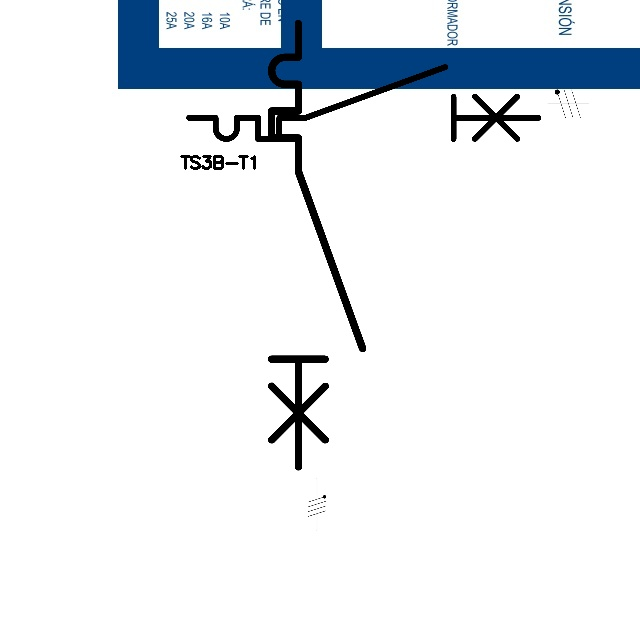interruptor_termomagnetico: (260, 12, 374, 478), (180, 58, 548, 148)
